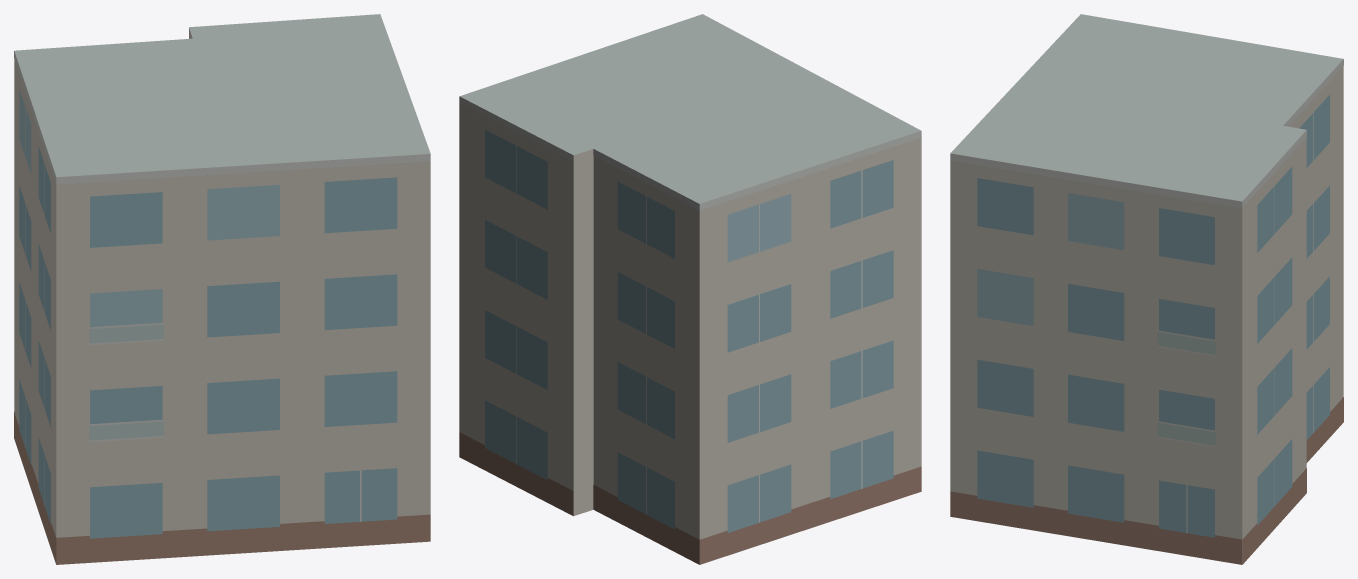
The model's file is survey-upis-32681406.glb.
The picture shows the model from 3 angles, left to right: view 1: azimuth 30°, elevation 25°; view 2: azimuth 150°, elevation 25°; view 3: azimuth 270°, elevation 25°; orthographic projection. The views are drawn at different scales.
Visible parts, largest first — view 1: survey-upis-32681406.tmp; view 2: survey-upis-32681406.tmp; view 3: survey-upis-32681406.tmp.
Part boxes in pixels (box(x1,y1,x2,y2)): survey-upis-32681406.tmp: box(14, 14, 430, 564); survey-upis-32681406.tmp: box(459, 14, 921, 564); survey-upis-32681406.tmp: box(950, 14, 1343, 564).
Size of the model in its own units: 14.51 by 13.1 by 12.87.
